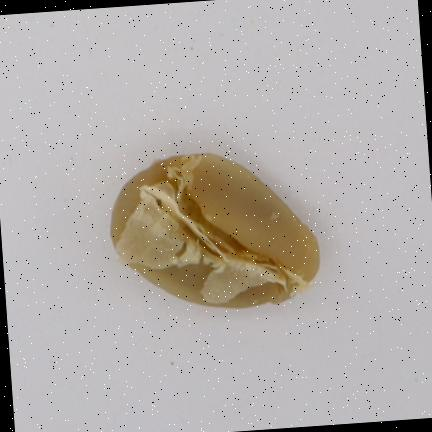parchment: (111, 153, 318, 307)
